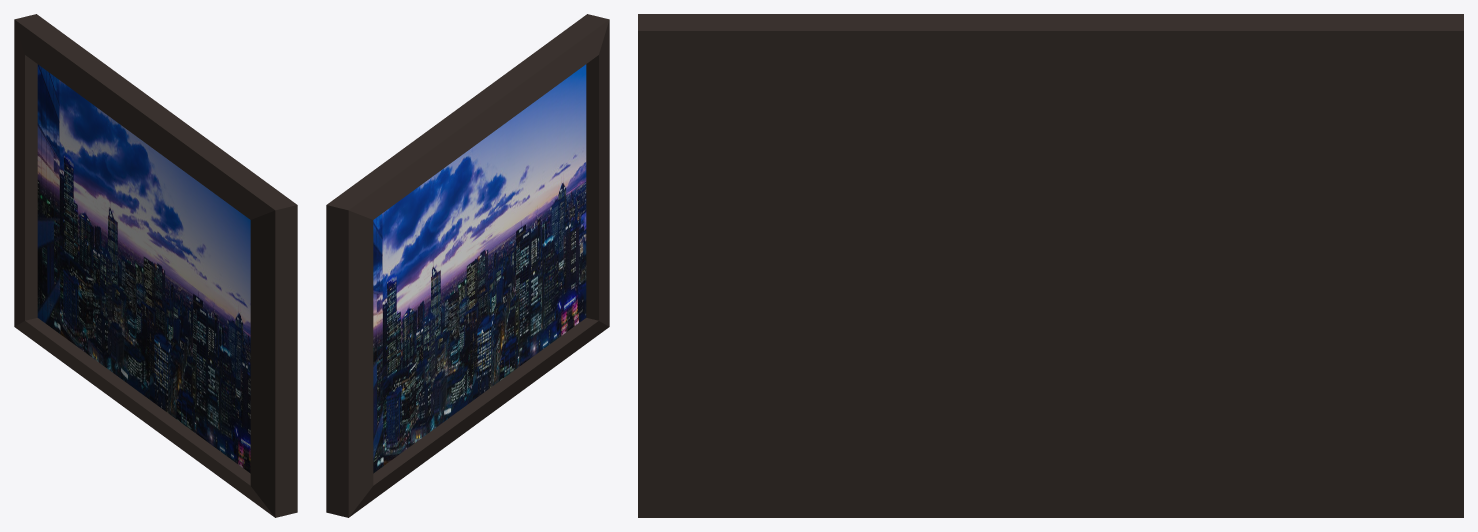
File: MelbournePic.fbx
The picture shows the model from 3 angles, left to right: view 1: azimuth 30°, elevation 25°; view 2: azimuth 150°, elevation 25°; view 3: azimuth 270°, elevation 25°; orthographic projection. The views are drawn at different scales.
Visible parts, largest first — view 1: MelbournePic; view 2: MelbournePic; view 3: MelbournePic.
Boxes of the visible parts, <box> form: MelbournePic: <box>14,14,297,517</box>; MelbournePic: <box>326,14,609,517</box>; MelbournePic: <box>638,14,1463,517</box>.
Bounding box in the file's own units: 10.52 × 106 × 163.
